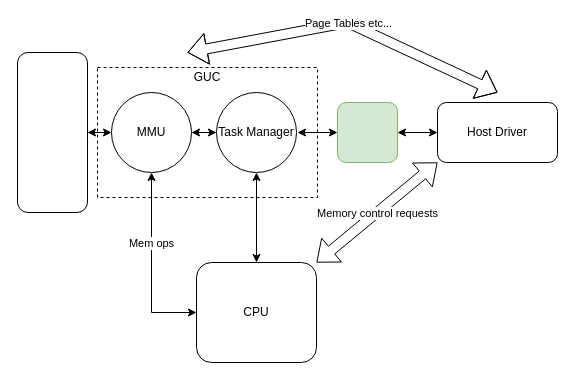
This 575x381 diagram has some shape labels left out. Here are the shapes that lost their labels. From the top down, the centre of each, then its label:
point (52, 132): Memory & Cache
point (367, 132): PCI Interface
